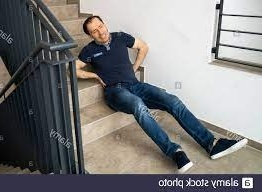fall: (78, 14, 249, 172)
